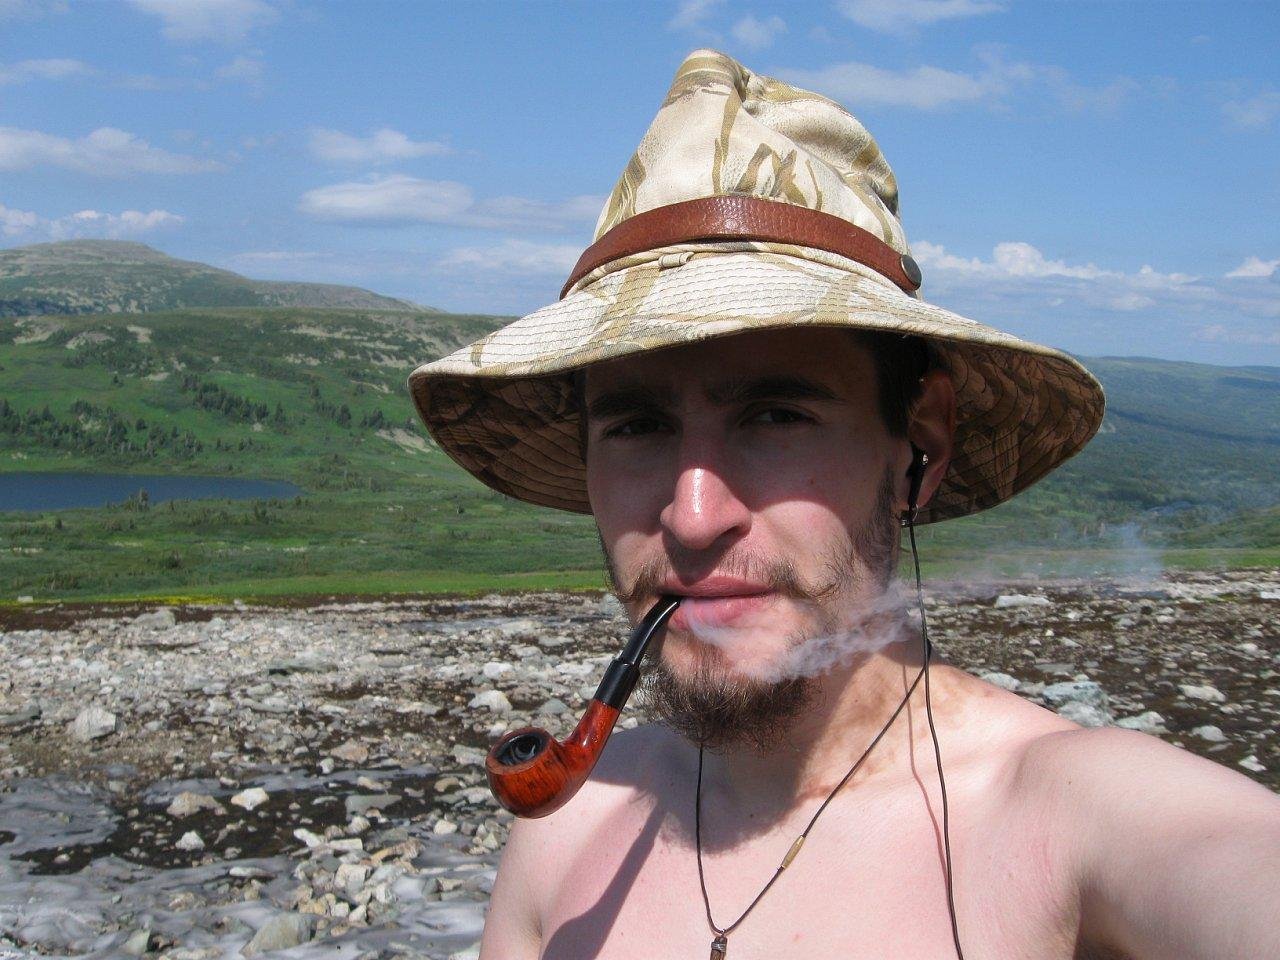trubka: (486, 598, 678, 816)
